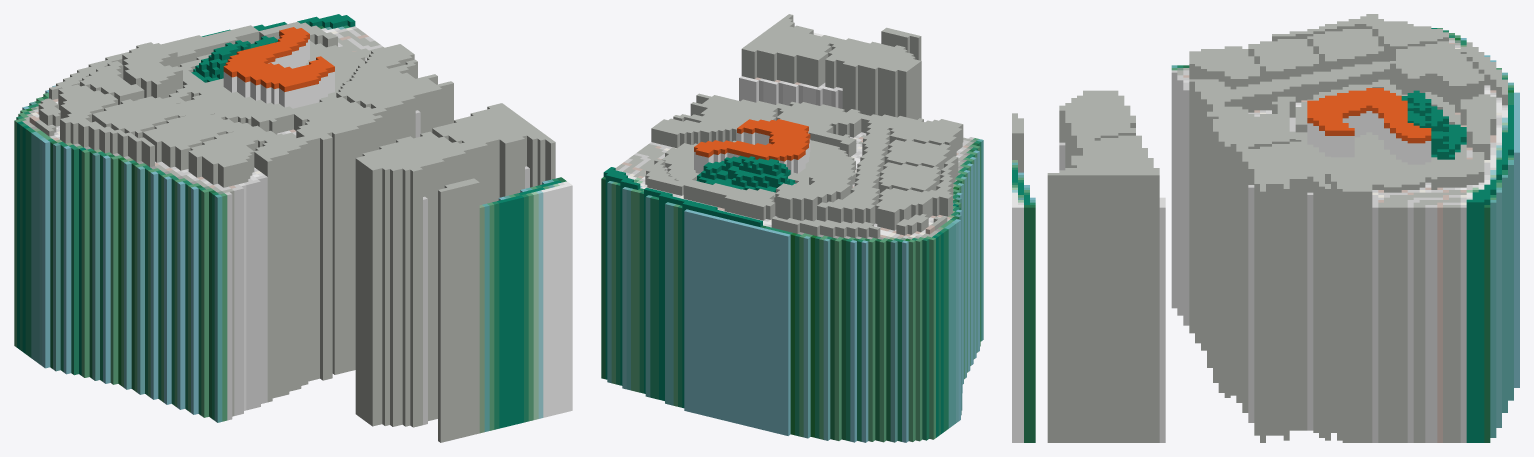
File: 200610 magicvoxel1-9.obj
3 renders of one model, left to right at view 1: azimuth 30°, elevation 25°; view 2: azimuth 150°, elevation 25°; view 3: azimuth 270°, elevation 25°, orthographic. The views are drawn at different scales.
Bounding box in the file's own units: 7.2 × 5 × 8.6.
Materials: 1 (1 with a texture image).
